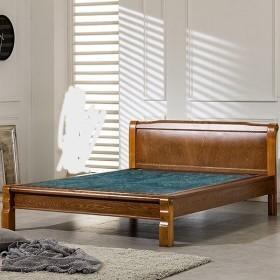Bed-Mattress: (2, 116, 279, 247)
